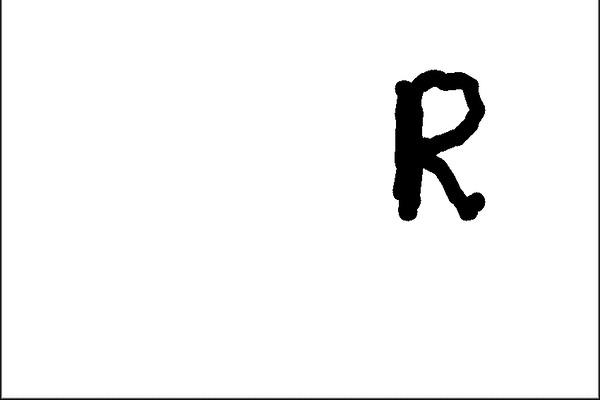R: (381, 68, 504, 227)
